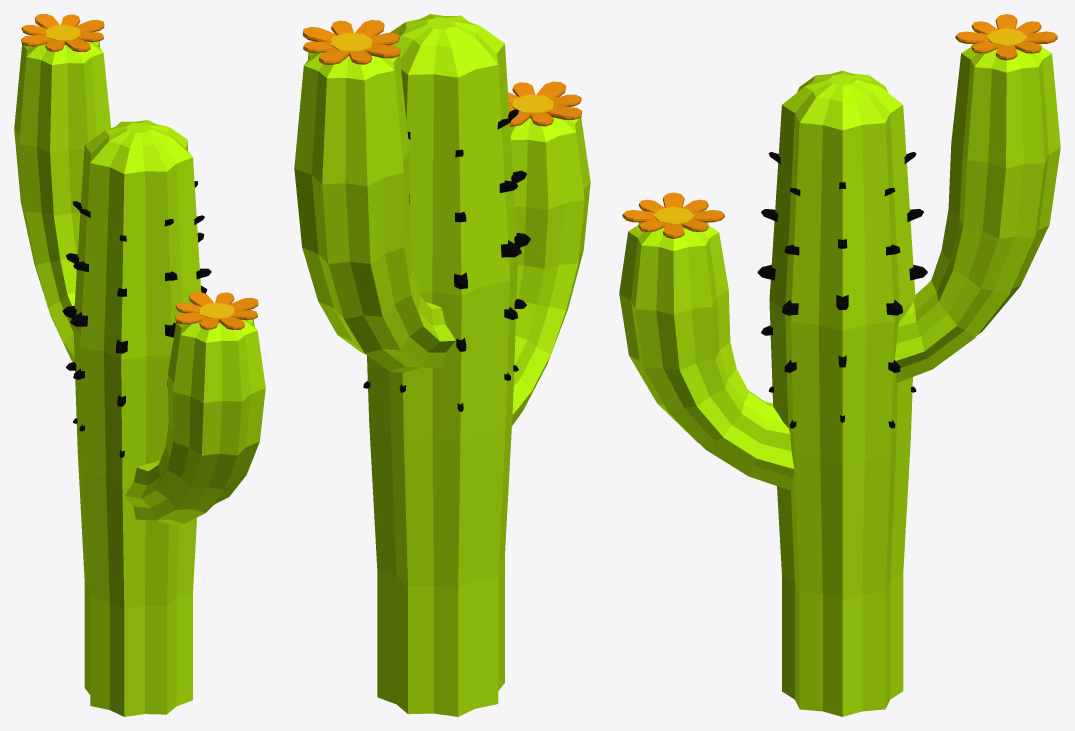
The model's file is Cardon01_02Brazos_Flor_Anaranjada.fbx.
3 views of the same model, side by side, from view 1: azimuth 30°, elevation 25°; view 2: azimuth 150°, elevation 25°; view 3: azimuth 270°, elevation 25° (orthographic). The views are drawn at different scales.
Parts seen in each view (by area): view 1: Cactus, Flor_Anaranjada, Espinas; view 2: Cactus, Flor_Anaranjada, Espinas; view 3: Cactus, Flor_Anaranjada, Espinas.
Part boxes in pixels (<box>): Cactus: <box>14,41,265,716</box>; Flor_Anaranjada: <box>21,14,258,329</box>; Espinas: <box>62,181,211,457</box>; Cactus: <box>294,14,590,716</box>; Flor_Anaranjada: <box>302,20,581,126</box>; Espinas: <box>363,109,530,411</box>; Cactus: <box>619,44,1060,716</box>; Flor_Anaranjada: <box>622,14,1057,238</box>; Espinas: <box>757,152,927,428</box>.
Bounding box in the file's own units: 53.18 × 226 × 138.
